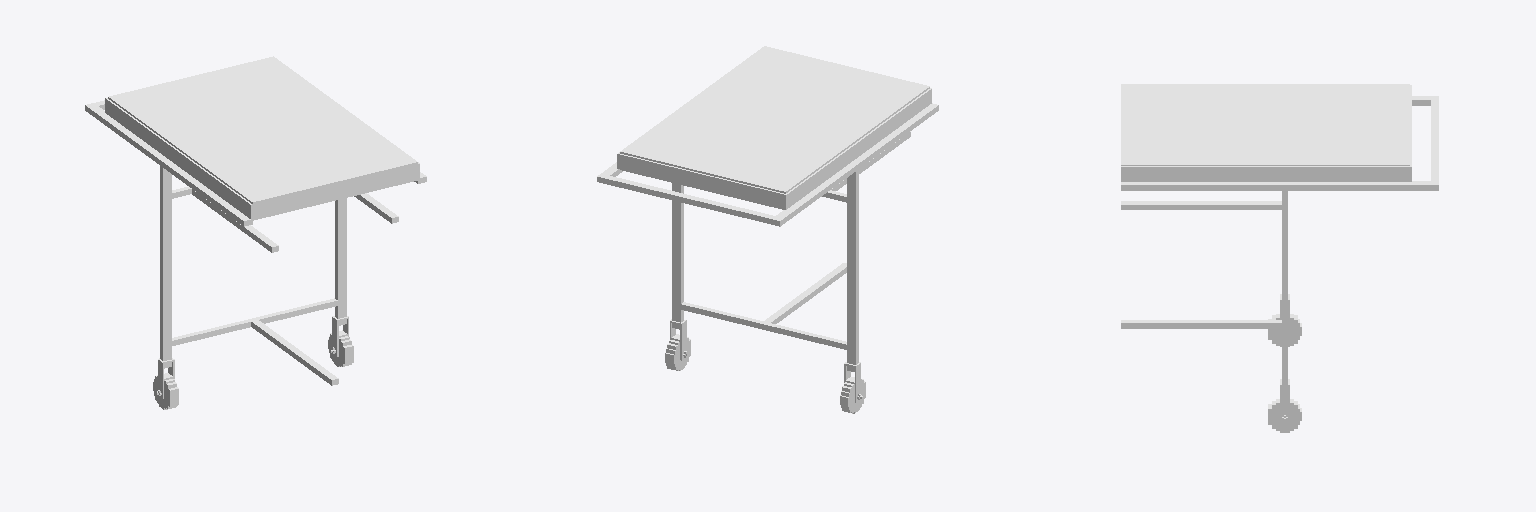
Rendered from MacaParteDireita.obj.
The picture shows the model from 3 angles: view 1: azimuth 30°, elevation 25°; view 2: azimuth 150°, elevation 25°; view 3: azimuth 270°, elevation 25°; orthographic projection.
Visible parts, largest first — view 1: object 1; view 2: object 1; view 3: object 1.
Part boxes in pixels (x1,y1,x2,y2): object 1: (85, 56, 426, 409); object 1: (597, 46, 938, 413); object 1: (1121, 84, 1438, 432).
Size of the model in its own units: 11 by 14.3 by 15.6.